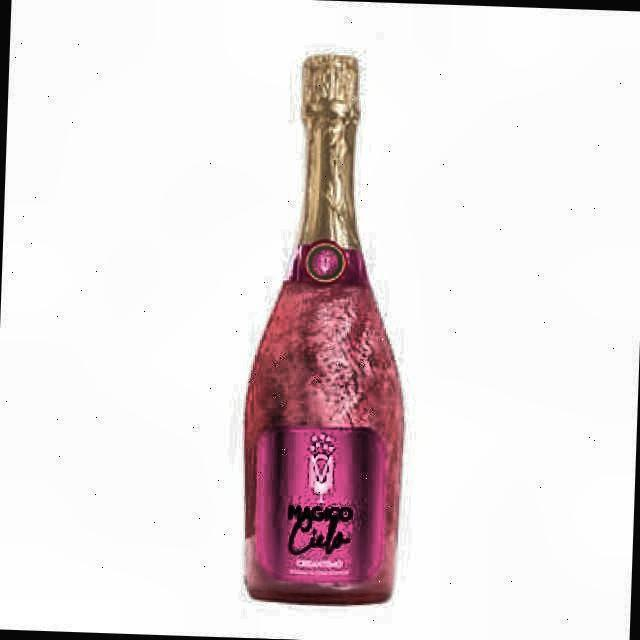glass: (242, 52, 406, 609)
